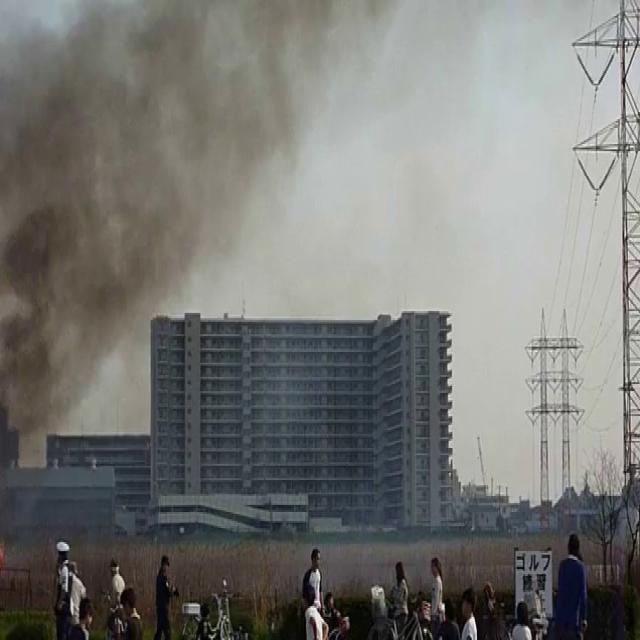Smoke: (0, 1, 304, 430)
